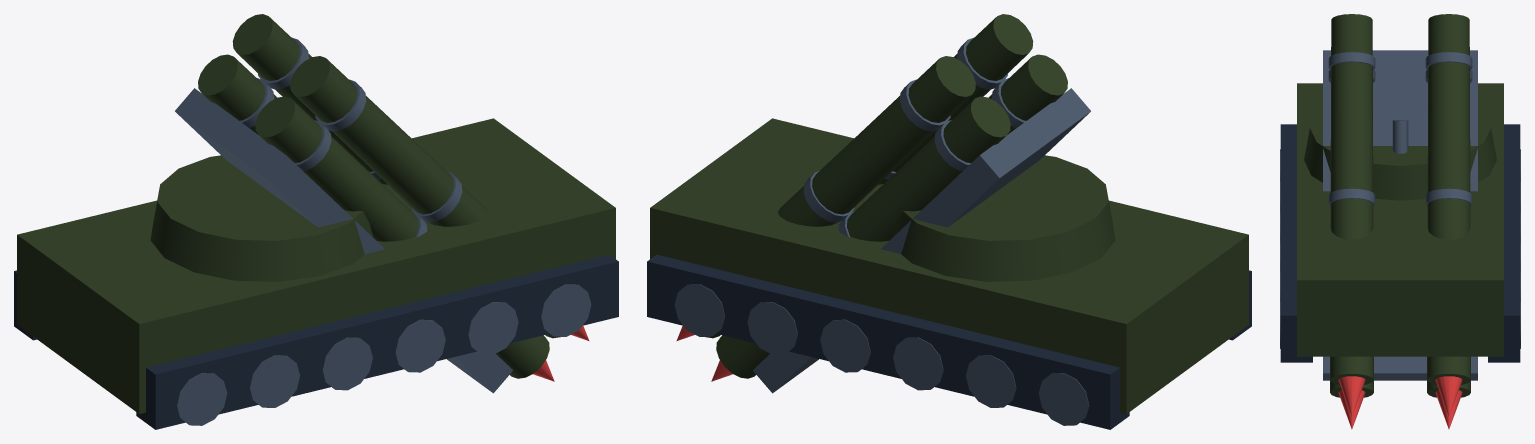
The model's file is sam_launcher.glb.
3 views of the same model, side by side, from view 1: azimuth 30°, elevation 25°; view 2: azimuth 150°, elevation 25°; view 3: azimuth 270°, elevation 25° (orthographic). The views are drawn at different scales.
Bounding box in the file's own units: 7.29 × 5.48 × 3.72.
